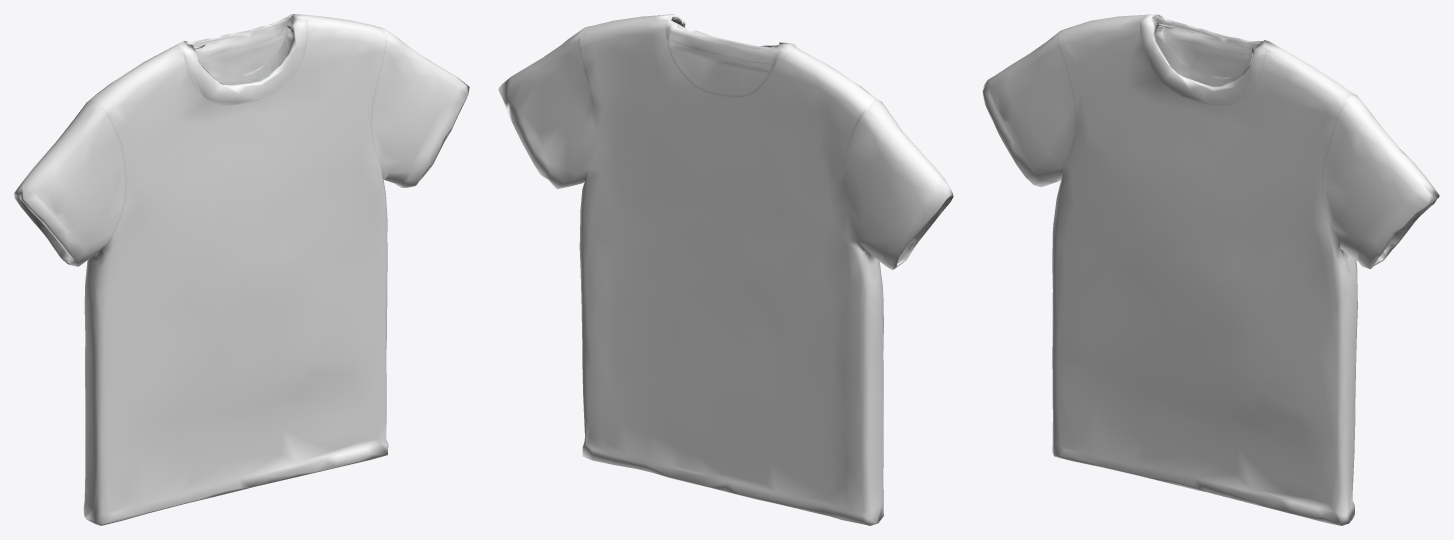
File: T-ShirtFlat.fbx
The picture shows the model from 3 angles, left to right: view 1: azimuth 30°, elevation 25°; view 2: azimuth 150°, elevation 25°; view 3: azimuth 330°, elevation 25°; orthographic projection.
Parts seen in each view (by area): view 1: temp; view 2: temp; view 3: temp.
Boxes of the visible parts, x1=… form: temp: x1=14, y1=14, x2=469, y2=525; temp: x1=498, y1=14, x2=953, y2=525; temp: x1=982, y1=14, x2=1439, y2=525.
Size of the model in its own units: 200 by 194 by 18.88.
Materials: 1 (1 with a texture image).
